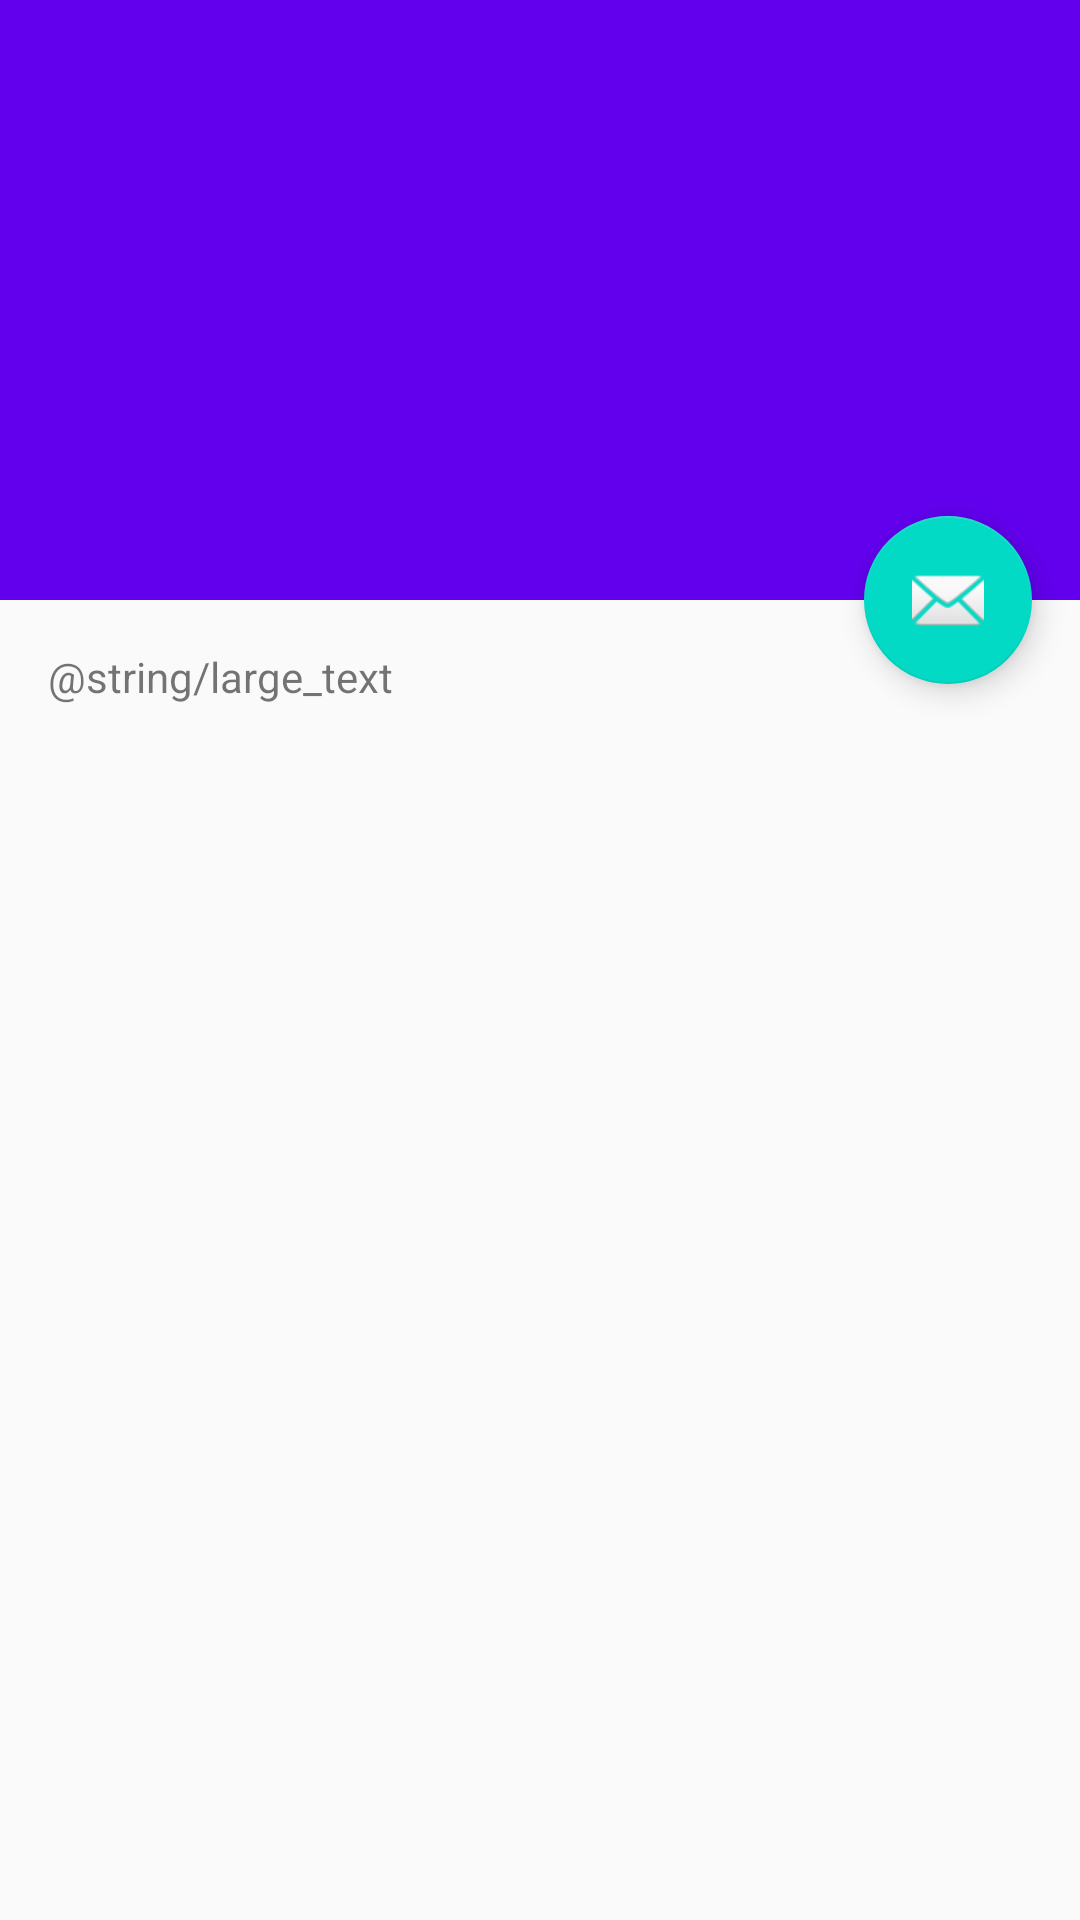

Where to tap for icons on this 1080px x 1920px app screen, as (x=x, y=y):
email: (x=948, y=600)
